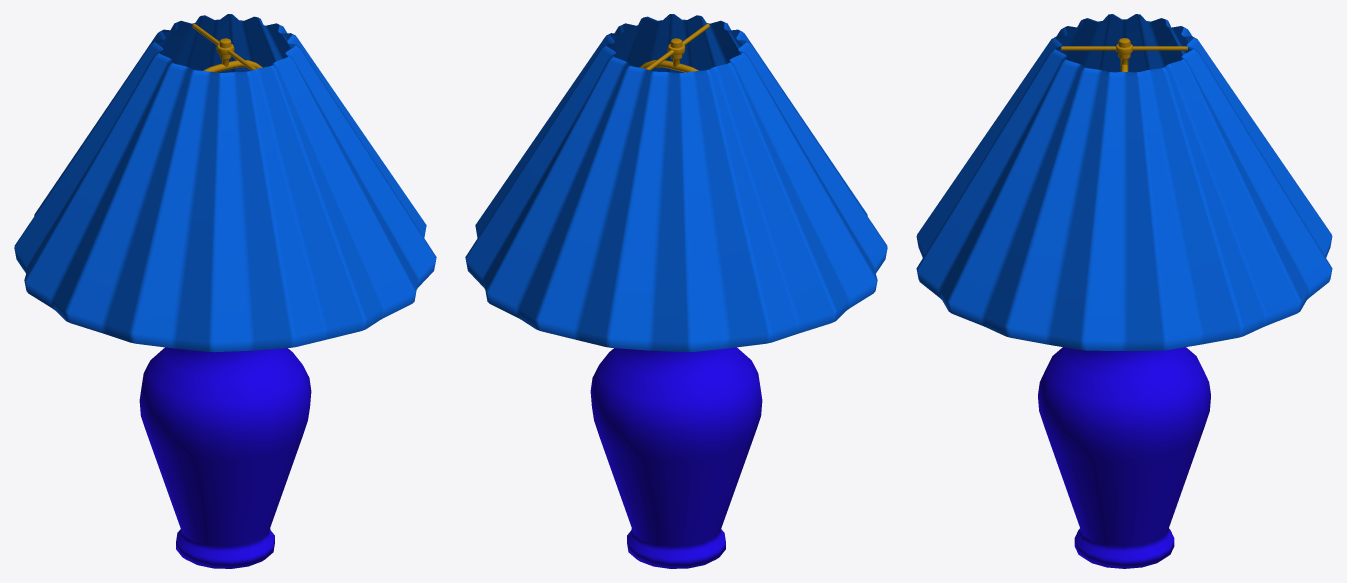
Rendered from FBX_TableLamp.fbx.
The picture shows the model from 3 angles, left to right: view 1: azimuth 30°, elevation 25°; view 2: azimuth 150°, elevation 25°; view 3: azimuth 270°, elevation 25°; orthographic projection.
Parts seen in each view (by area): view 1: Circle; view 2: Circle; view 3: Circle.
Boxes of the visible parts, left/top/right/bottom form: Circle: left=14, top=14, right=436, bottom=568; Circle: left=465, top=14, right=887, bottom=568; Circle: left=916, top=14, right=1332, bottom=568.
Bounding box in the file's own units: 55 × 74.61 × 55.
